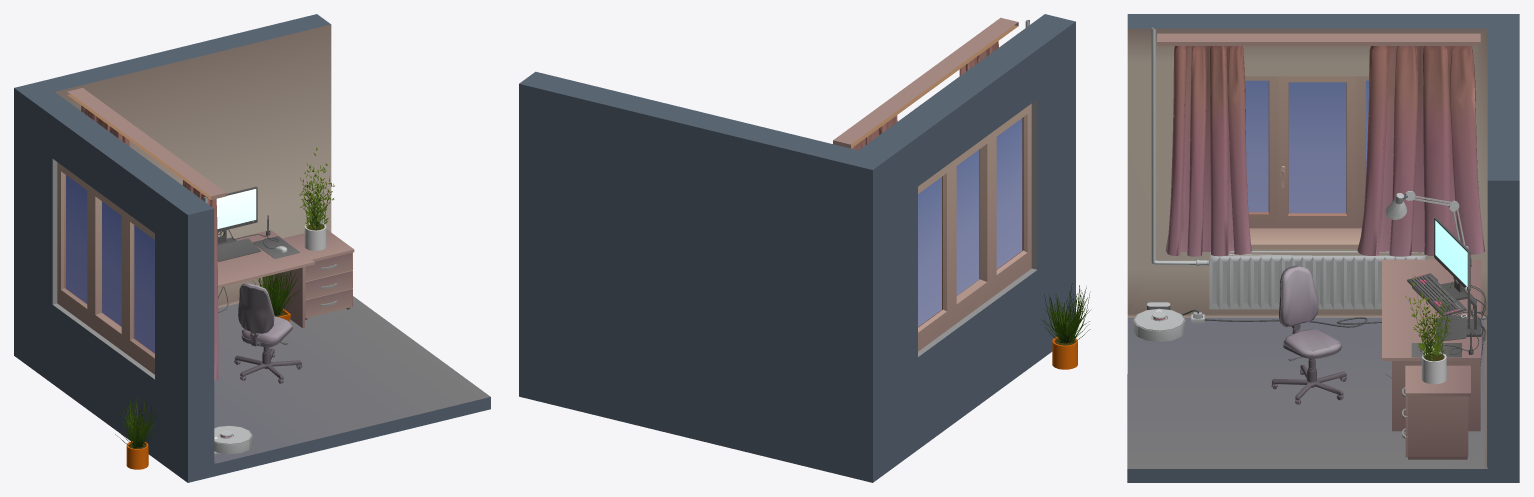
The model's file is room.glb.
3 renders of one model, left to right at view 1: azimuth 30°, elevation 25°; view 2: azimuth 150°, elevation 25°; view 3: azimuth 270°, elevation 25°, orthographic. The views are drawn at different scales.
Parts seen in each view (by area): view 1: body1, window, window4, table, cabin, railing, chair_body, Pot_9, Pot_2, _________6_blinn1_0, emis, Pot_14 (+4 smaller); view 2: body1, window4, window, railing, Pot_2, _________6_blinn1_0; view 3: body1, _________6_blinn1_0, window4, window, radiator, table, cabin, railing, pillows, Pot_9, vacuum1, chair_body (+9 smaller).
Boxes of the visible parts, <box> form: body1: <box>14,14,490,482</box>; window: <box>57,162,154,374</box>; window4: <box>66,175,154,353</box>; table: <box>217,230,314,328</box>; cabin: <box>283,229,354,319</box>; railing: <box>67,88,226,199</box>; chair_body: <box>234,284,302,383</box>; Pot_9: <box>299,147,334,250</box>; Pot_2: <box>115,395,157,469</box>; _________6_blinn1_0: <box>81,105,218,380</box>; emis: <box>214,189,256,438</box>; Pot_14: <box>252,270,301,321</box>; body1: <box>519,14,1075,482</box>; window4: <box>918,118,1022,326</box>; window: <box>918,103,1031,351</box>; railing: <box>833,17,1018,148</box>; Pot_2: <box>1041,283,1091,369</box>; _________6_blinn1_0: <box>852,41,998,150</box>; body1: <box>1127,14,1519,482</box>; _________6_blinn1_0: <box>1165,46,1484,256</box>; window4: <box>1245,80,1368,213</box>; window: <box>1245,76,1368,248</box>; radiator: <box>1209,251,1426,309</box>; table: <box>1382,259,1481,431</box>; cabin: <box>1405,365,1470,459</box>; railing: <box>1157,33,1480,45</box>; pillows: <box>1281,266,1340,355</box>; Pot_9: <box>1405,276,1452,384</box>; vacuum1: <box>1133,302,1202,341</box>; chair_body: <box>1271,265,1346,404</box>.
Bounding box in the file's own units: 7.74 × 5.69 × 6.65.
4 materials, 1 textured.
